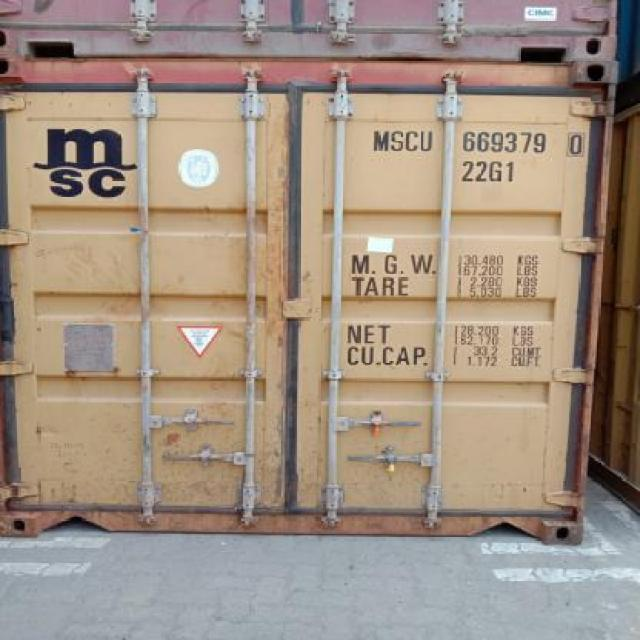ISO: (460, 159, 515, 185)
container_number: (370, 126, 580, 154)
